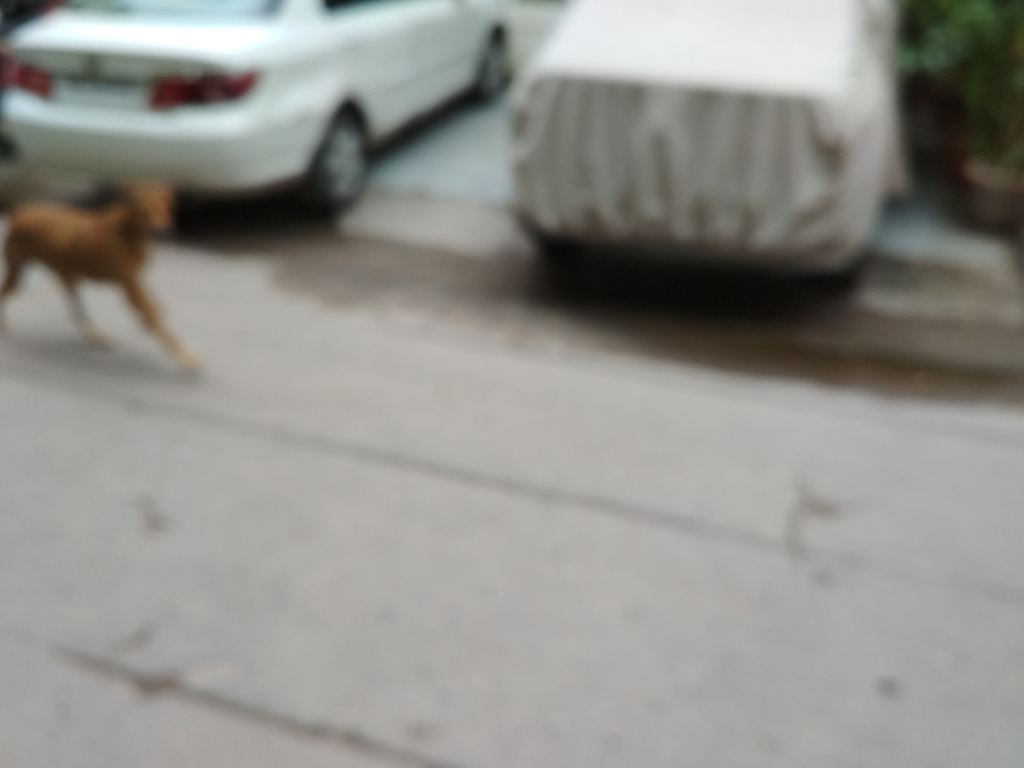dog: (2, 178, 211, 377)
